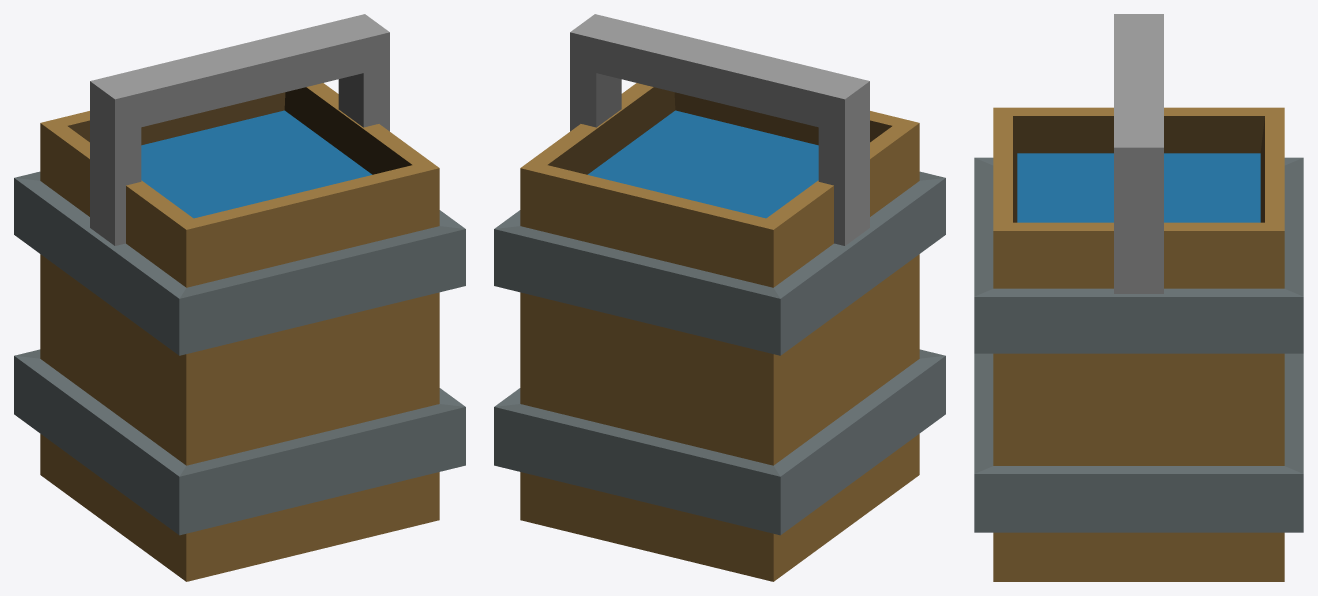
The model's file is Bucket_02.gltf.
3 views of the same model, side by side, from view 1: azimuth 30°, elevation 25°; view 2: azimuth 150°, elevation 25°; view 3: azimuth 270°, elevation 25° (orthographic).
Visible parts, largest first — view 1: SF_Prop_Bucket_02; view 2: SF_Prop_Bucket_02; view 3: SF_Prop_Bucket_02.
Boxes of the visible parts, x1,y1,x2,y2 form: SF_Prop_Bucket_02: [14, 14, 465, 581]; SF_Prop_Bucket_02: [494, 14, 945, 581]; SF_Prop_Bucket_02: [974, 14, 1303, 581].
Bounding box in the file's own units: 0.00642 × 0.00945 × 0.00642.
Materials: 1 (1 with a texture image).
